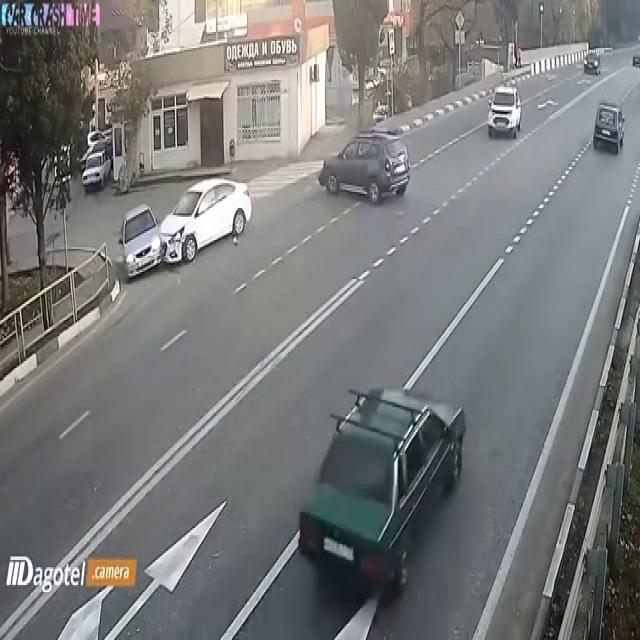accident: (109, 184, 250, 288)
